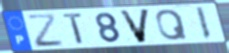8: (95, 12, 123, 44)
I: (194, 6, 213, 41)
Q: (155, 8, 190, 42)
T: (61, 12, 86, 47)
V: (117, 8, 152, 44)
Z: (25, 12, 67, 49)
